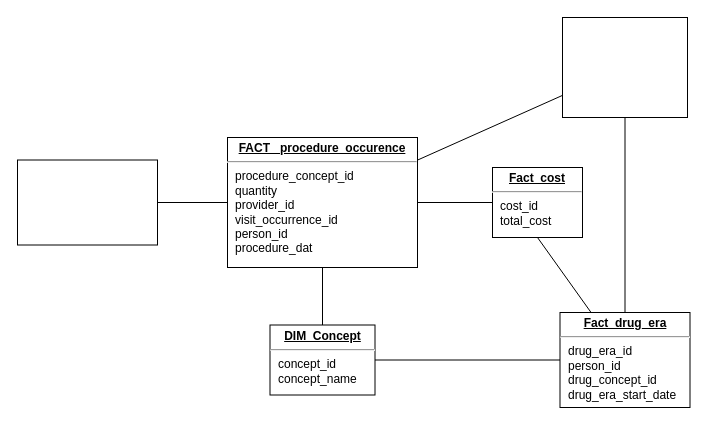
Some shapes in this 708 by 425 pixel diagram are drawn without their labels. Each missing label, with the centre of its shape:
"DIM_person person_id year_of_birth" belongs at pixel 625 67.
"DIM_Provider provider_id provider_name speciality_concept_id" belongs at pixel 87 202.
